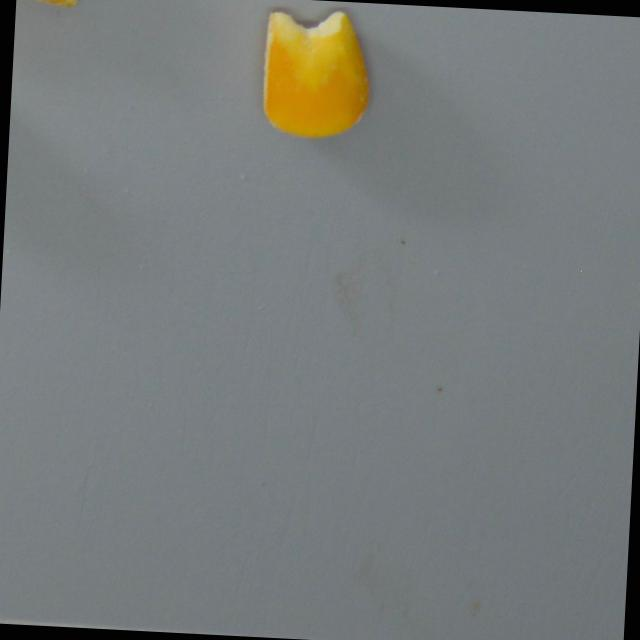no_canjicado: (259, 6, 374, 142)
pelicula: (16, 0, 103, 11)
